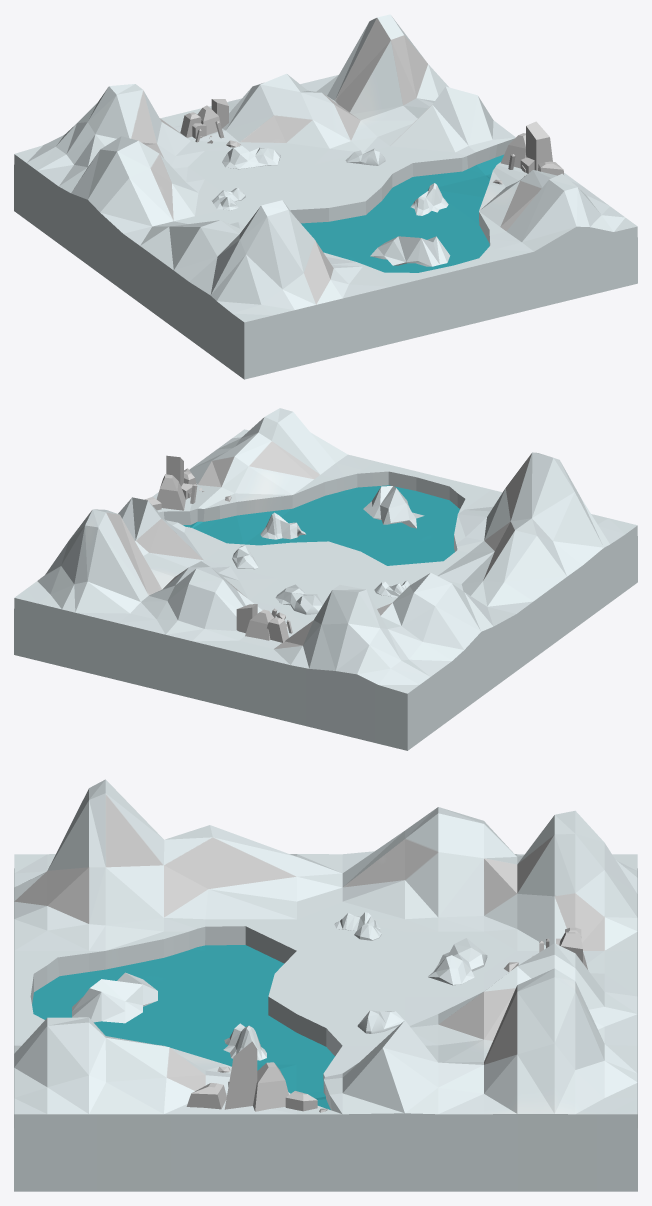
The model's file is environment-present.glb.
3 views of the same model, one above another, from view 1: azimuth 30°, elevation 25°; view 2: azimuth 150°, elevation 25°; view 3: azimuth 270°, elevation 25° (orthographic). The views are drawn at different scales.
Parts seen in each view (by area): view 1: Environment_08, glacier_2_geo, pPlane6, pCube10, glacier_3_geo, pCube9; view 2: Environment_08, glacier_2_geo, pPlane6, pCube9, glacier_3_geo, pCube2; view 3: Environment_08, glacier_2_geo, pPlane6, pCube10, pCube9, pPlane5, glacier_3_geo, pCube15, pPlane4.
Part boxes in pixels (left/top/right/bottom): Environment_08: left=14, top=14, right=637, bottom=379; glacier_2_geo: left=370, top=236, right=450, bottom=266; pPlane6: left=222, top=146, right=280, bottom=169; pCube10: left=526, top=121, right=552, bottom=170; glacier_3_geo: left=410, top=183, right=448, bottom=215; pCube9: left=501, top=133, right=526, bottom=168; Environment_08: left=14, top=408, right=637, bottom=750; glacier_2_geo: left=363, top=486, right=424, bottom=528; pPlane6: left=275, top=584, right=324, bottom=614; pCube9: left=156, top=474, right=185, bottom=510; glacier_3_geo: left=260, top=512, right=305, bottom=539; pCube2: left=245, top=609, right=274, bottom=640; Environment_08: left=14, top=779, right=637, bottom=1191; glacier_2_geo: left=72, top=972, right=157, bottom=1023; pPlane6: left=428, top=938, right=487, bottom=985; pCube10: left=224, top=1041, right=257, bottom=1109; pCube9: left=253, top=1062, right=288, bottom=1111; pPlane5: left=334, top=912, right=381, bottom=940; glacier_3_geo: left=223, top=1023, right=266, bottom=1060; pCube15: left=186, top=1083, right=226, bottom=1109; pPlane4: left=357, top=1010, right=404, bottom=1033.
Size of the model in its own units: 51.72 by 17.22 by 52.42.
10 materials, 10 textured.
